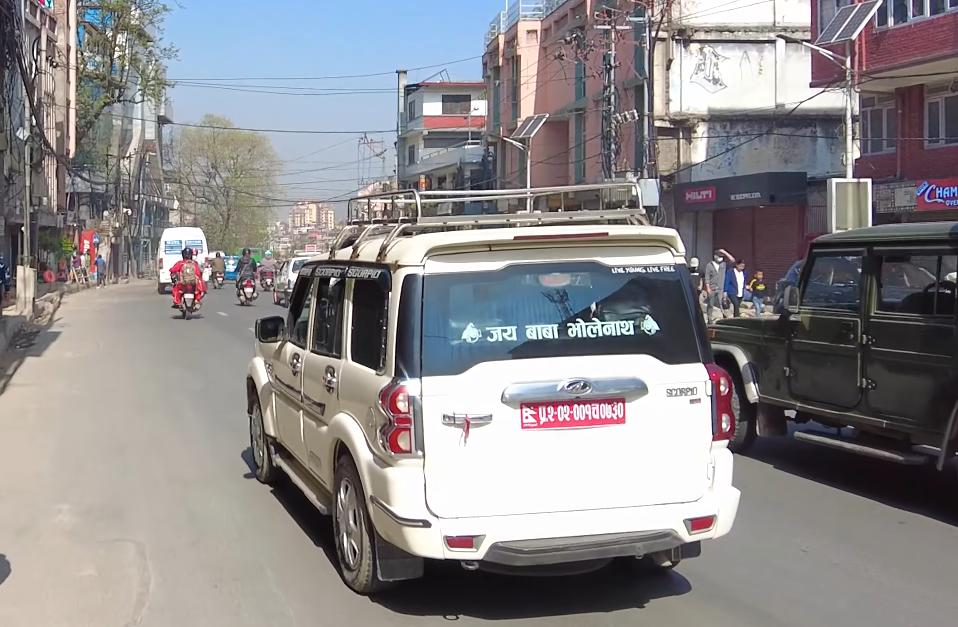SUV: (233, 176, 749, 605), (711, 214, 958, 485)
micro_bus: (151, 223, 214, 298)
